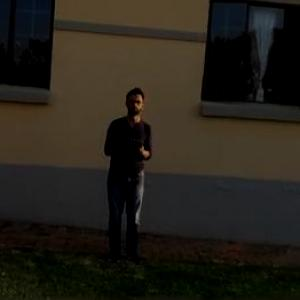follow: (95, 88, 152, 276)
